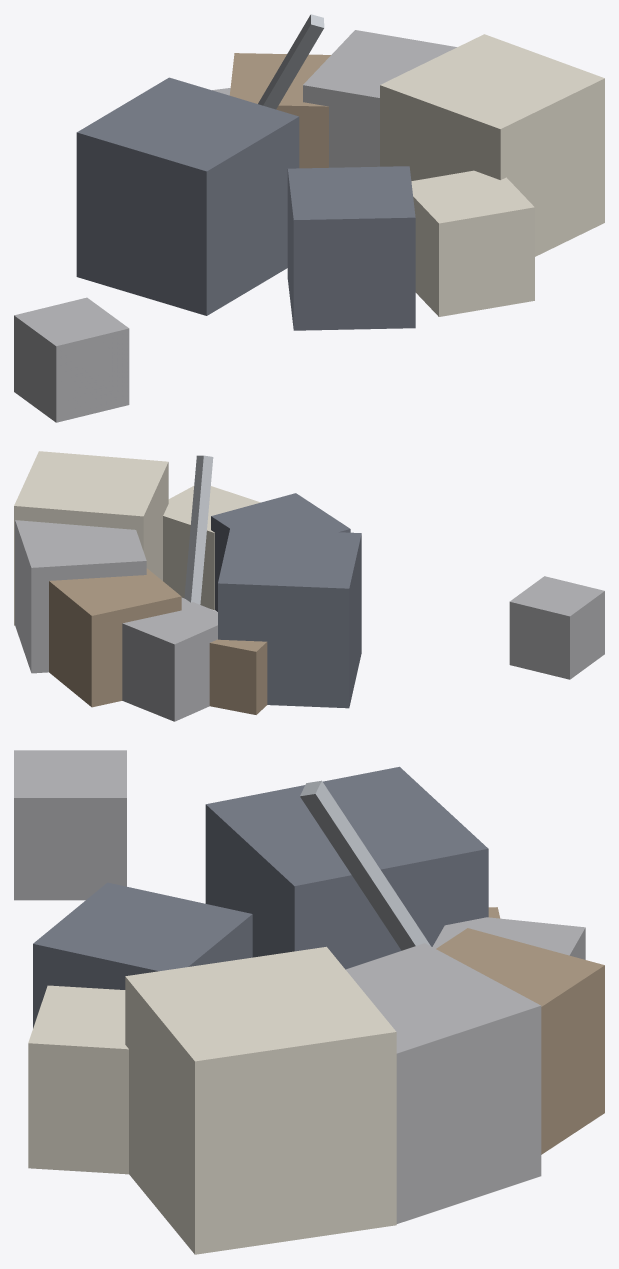
File: rubble.glb
The picture shows the model from 3 angles, top to bottom: view 1: azimuth 30°, elevation 25°; view 2: azimuth 150°, elevation 25°; view 3: azimuth 270°, elevation 25°; orthographic projection. The views are drawn at different scales.
Visible parts, largest first — view 1: rubble; view 2: rubble; view 3: rubble.
Part boxes in pixels (x1,y1,x2,y2): rubble: [14, 14, 604, 422]; rubble: [14, 451, 604, 721]; rubble: [14, 750, 604, 1254].
Size of the model in its own units: 0.8427 by 0.3059 by 0.5233.
